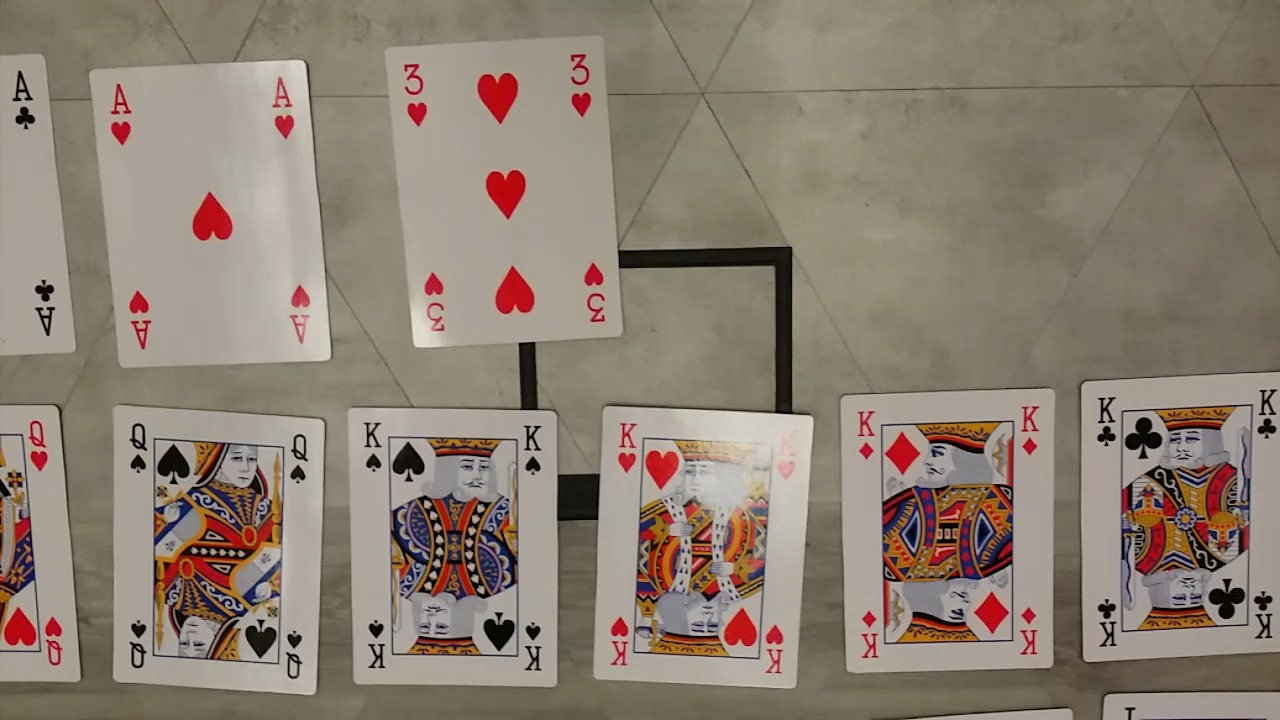1_heart: (86, 57, 332, 368)
3_heart: (380, 30, 626, 347)
king_club: (1078, 369, 1280, 665)
king_diamond: (838, 385, 1057, 673)
king_heart: (589, 404, 818, 688)
king_spade: (344, 405, 559, 689)
queen_spade: (111, 402, 327, 696)
